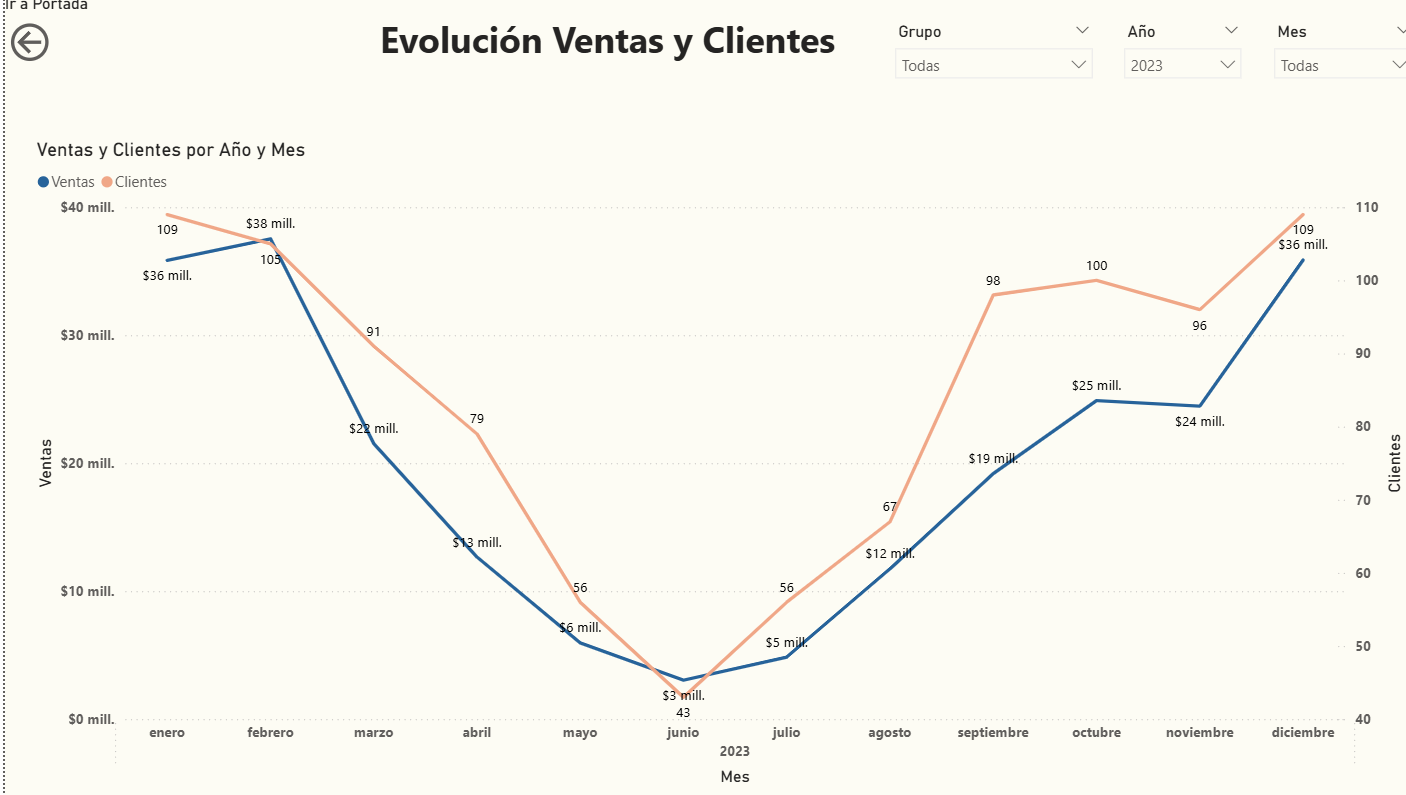

What the dashboard file says about the page in this screenshot:
{"tool":"powerbi","page":{"name":"Evolución Ventas y Clientes","canvas":[1280,720],"ordinal":2},"visuals":[{"type":"textbox","box":[303.6,12.5,471.9,78.8],"z":0},{"type":"lineChart","fields":{"Category":["Calendar.Fecha.Variación.Jerarquía de fechas.Año","Calendar.Fecha.Variación.Jerarquía de fechas.Mes","Calendar.Fecha.Variación.Jerarquía de fechas.Día"],"Y":["Medidas.Venta_Neta"],"Y2":["Medidas.Cantidad Clientes"]},"box":[23.3,129,1233.1,584.8],"z":1000},{"type":"slicer","fields":{"Values":["Calendar.Fecha.Variación.Jerarquía de fechas.Año"]},"box":[992.2,20.6,125.4,62.7],"z":2000},{"type":"slicer","fields":{"Values":["Calendar.Fecha.Variación.Jerarquía de fechas.Mes"]},"box":[1126.6,20.6,145.1,62.7],"z":3000},{"type":"slicer","fields":{"Values":["Productos.Grupo"]},"box":[787.2,20.6,197,62.7],"z":4000},{"type":"actionButton","title":"Ir a Portada","box":[0,0,120.9,65.4],"z":5000}]}

Visuals, with their boxes in screenshot pixels (x1, y1, x2, y2), scaled from the page's 1280x720 canvas onto the 1406x795 screenshot:
textbox: 333:14:852:101
lineChart - Calendar.Fecha.Variación.Jerarquía de fechas.Año x Calendar.Fecha.Variación.Jerarquía de fechas.Mes: 26:142:1380:788
slicer - Calendar.Fecha.Variación.Jerarquía de fechas.Año: 1090:23:1228:92
slicer - Calendar.Fecha.Variación.Jerarquía de fechas.Mes: 1237:23:1397:92
slicer - Productos.Grupo: 865:23:1081:92
"Ir a Portada" actionButton: 0:0:133:72
